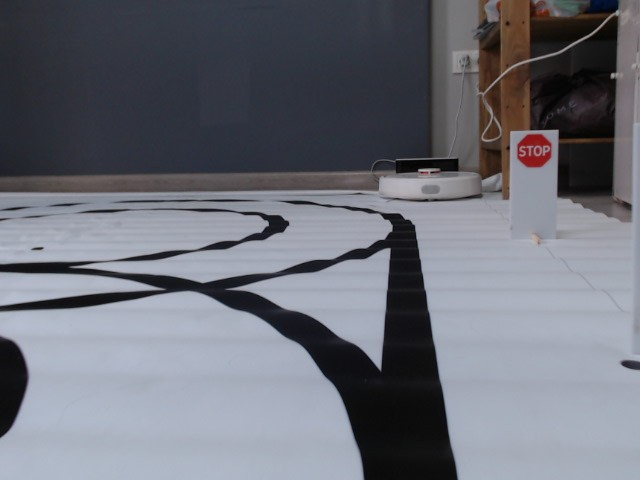Stop: (515, 134, 553, 169)
